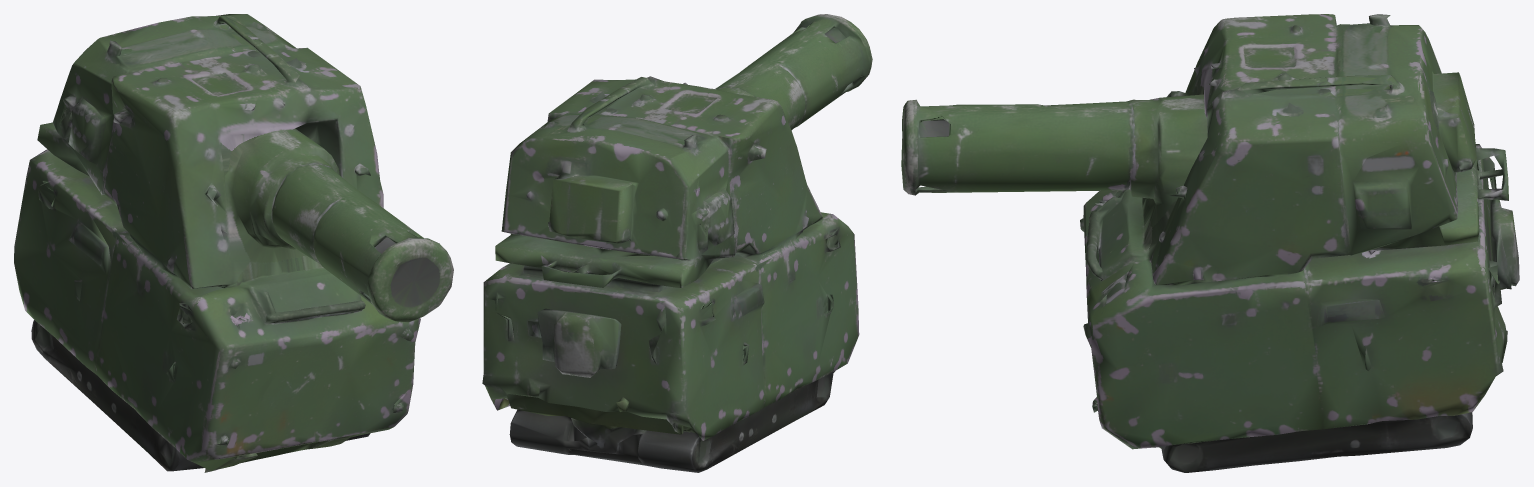
File: hullweapon-b-pixal.glb
The picture shows the model from 3 angles, left to right: view 1: azimuth 30°, elevation 25°; view 2: azimuth 150°, elevation 25°; view 3: azimuth 270°, elevation 25°; orthographic projection. The views are drawn at different scales.
Visible parts, largest first — view 1: Body; view 2: Body; view 3: Body.
Part boxes in pixels (box(x1,y1,x2,y2)): Body: box(14, 14, 453, 472); Body: box(482, 14, 872, 472); Body: box(901, 14, 1519, 472).
Size of the model in its own units: 0.7524 by 1.13 by 1.66.
Materials: 1 (1 with a texture image).
